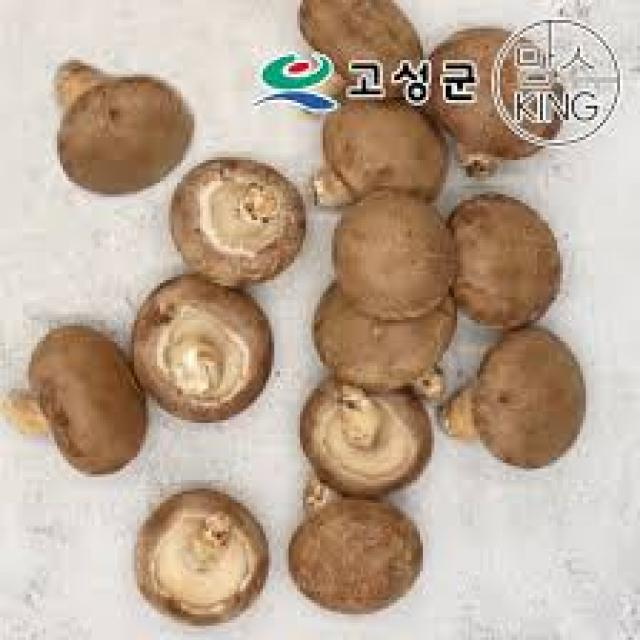Mushroom: (6, 329, 146, 476), (134, 276, 274, 422), (54, 60, 194, 194), (137, 490, 269, 624), (171, 160, 306, 287), (303, 380, 434, 500)
